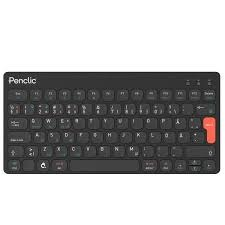keyboard: (1, 71, 220, 179)
